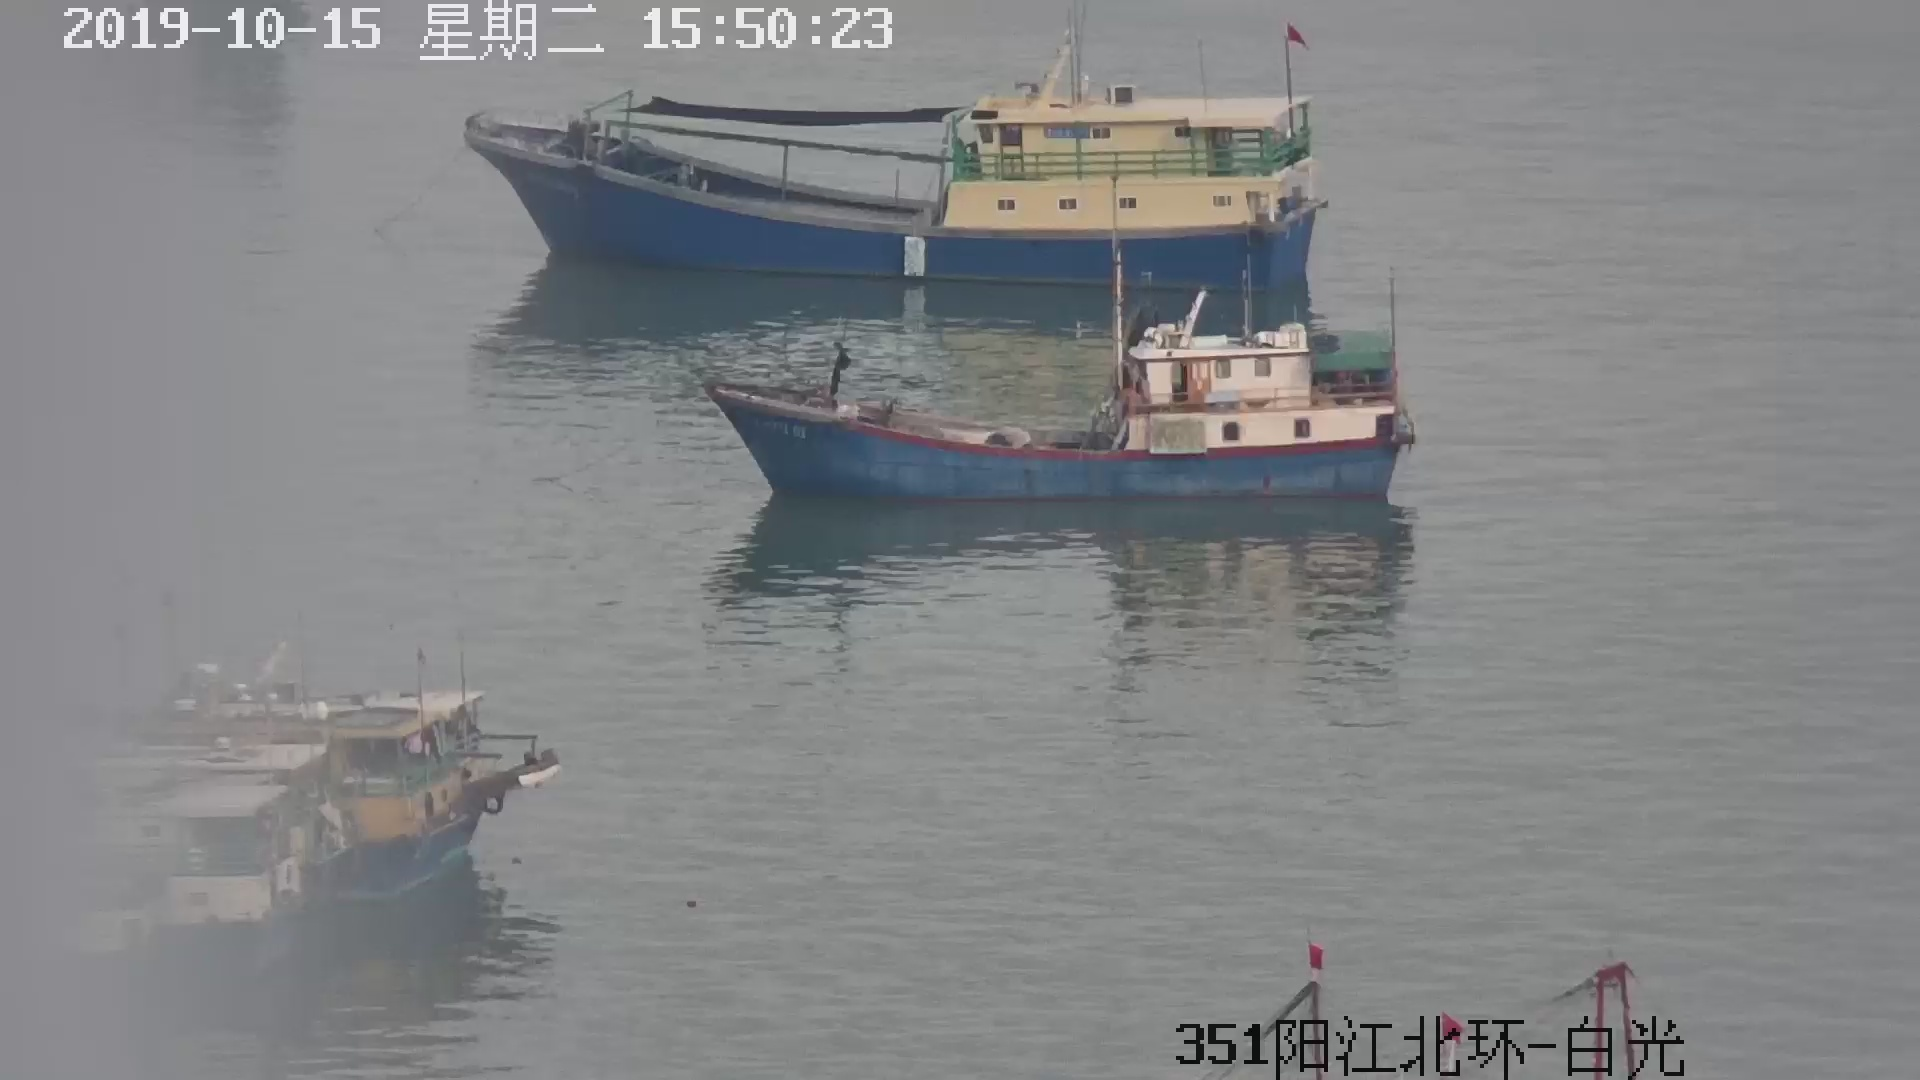ship: (447, 15, 1346, 276), (716, 284, 1408, 514)
